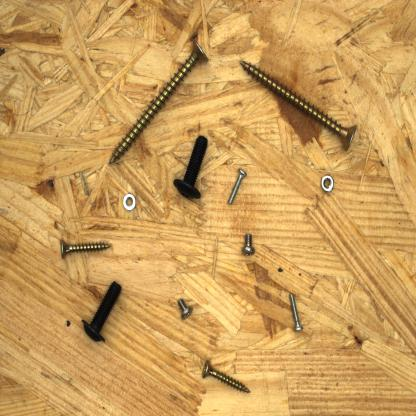screw: (106, 36, 212, 168), (237, 56, 360, 154), (81, 278, 124, 344), (200, 357, 252, 396), (58, 239, 113, 261), (225, 164, 250, 207), (287, 290, 304, 334), (176, 295, 194, 323), (241, 229, 256, 258)
